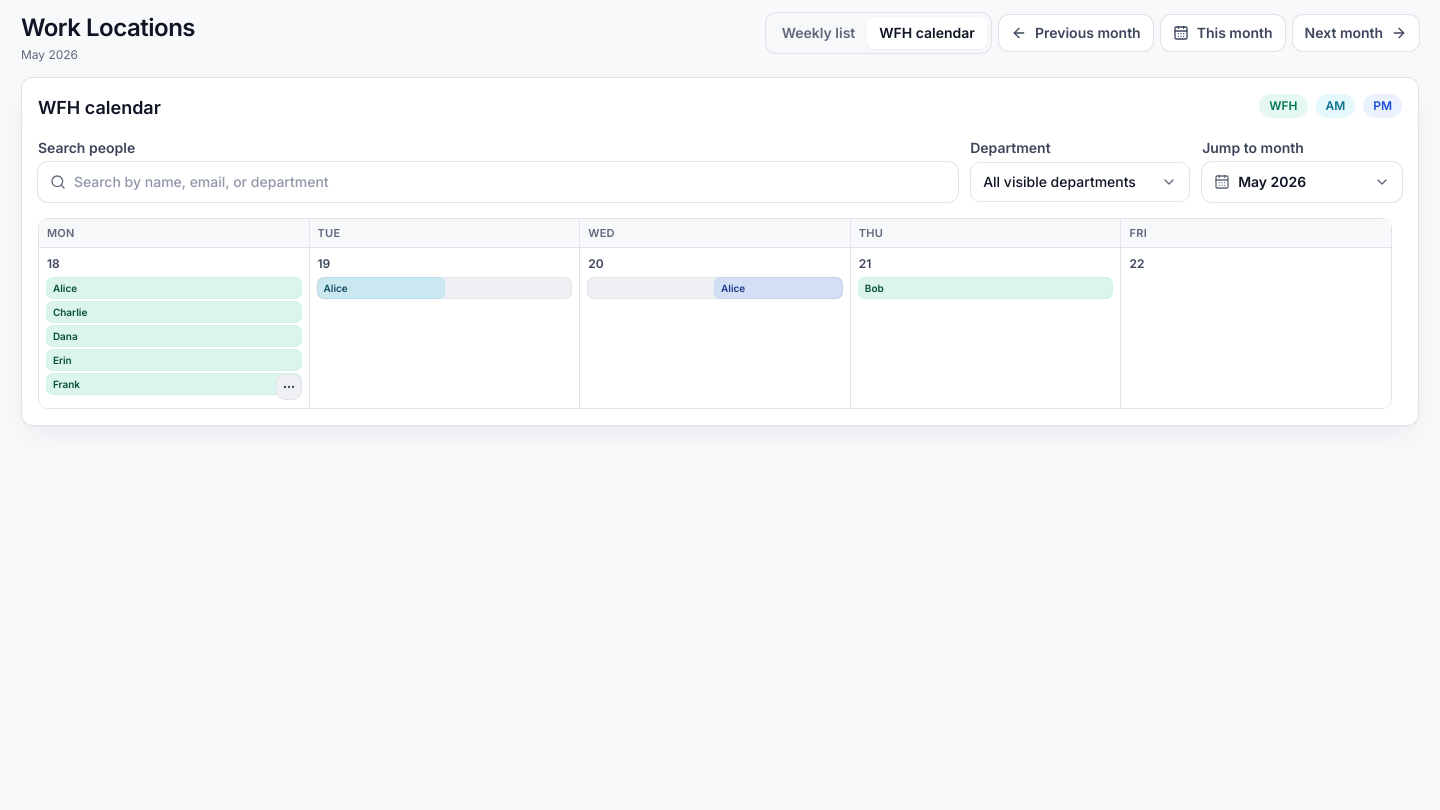
Scenario: WorkLocationCalendar › opens WFH day overflow outside the clipped calendar scroller
Click the button named "Show all WFH people for May 18, 2026".
click(288, 388)  # box top-left (276, 376), bottom-right (300, 400)
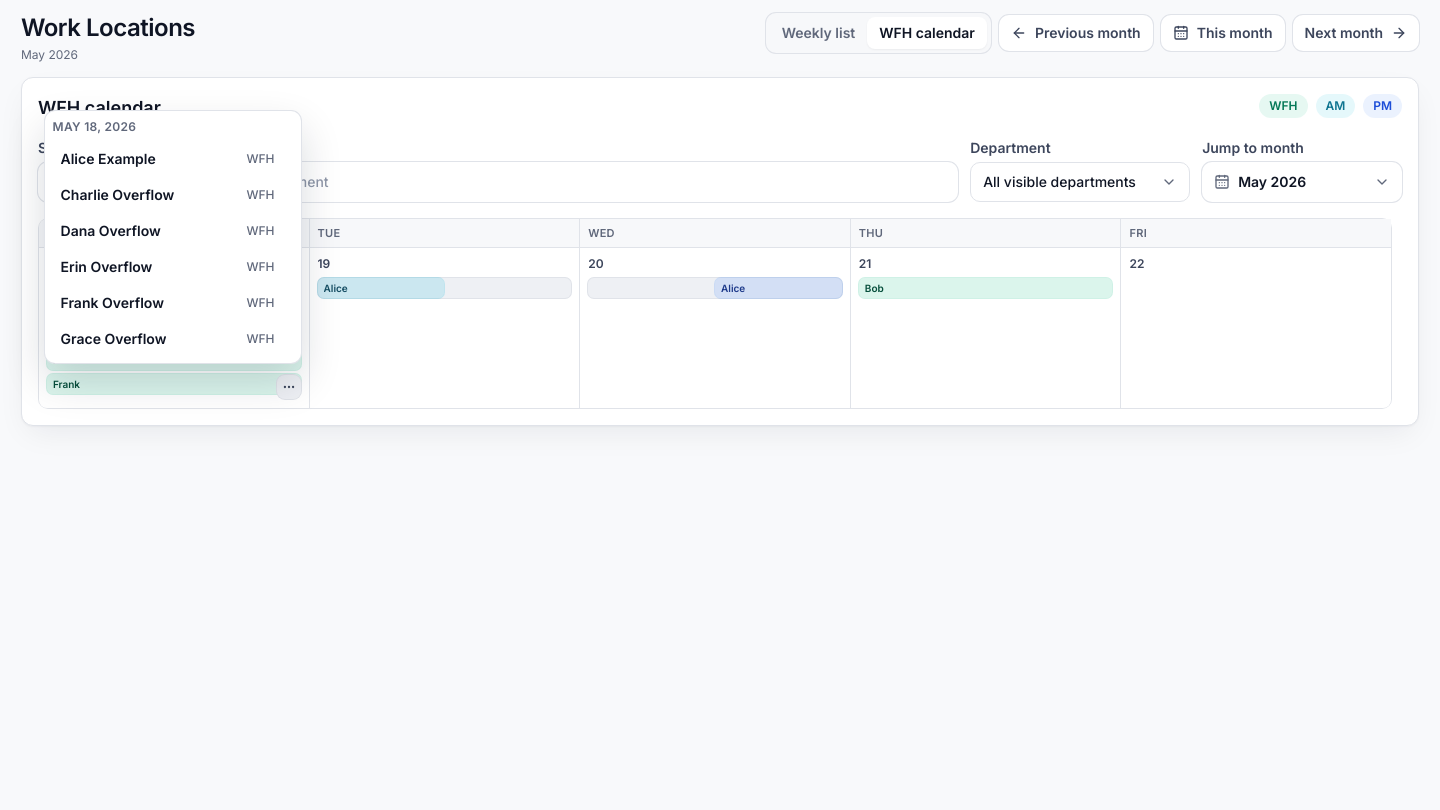
Check: the text "Charlie Overflow" is shown, box top-left (60, 186), bottom-right (174, 206)
Check: the text "Grace Overflow" is shown, box top-left (60, 330), bottom-right (166, 350)
